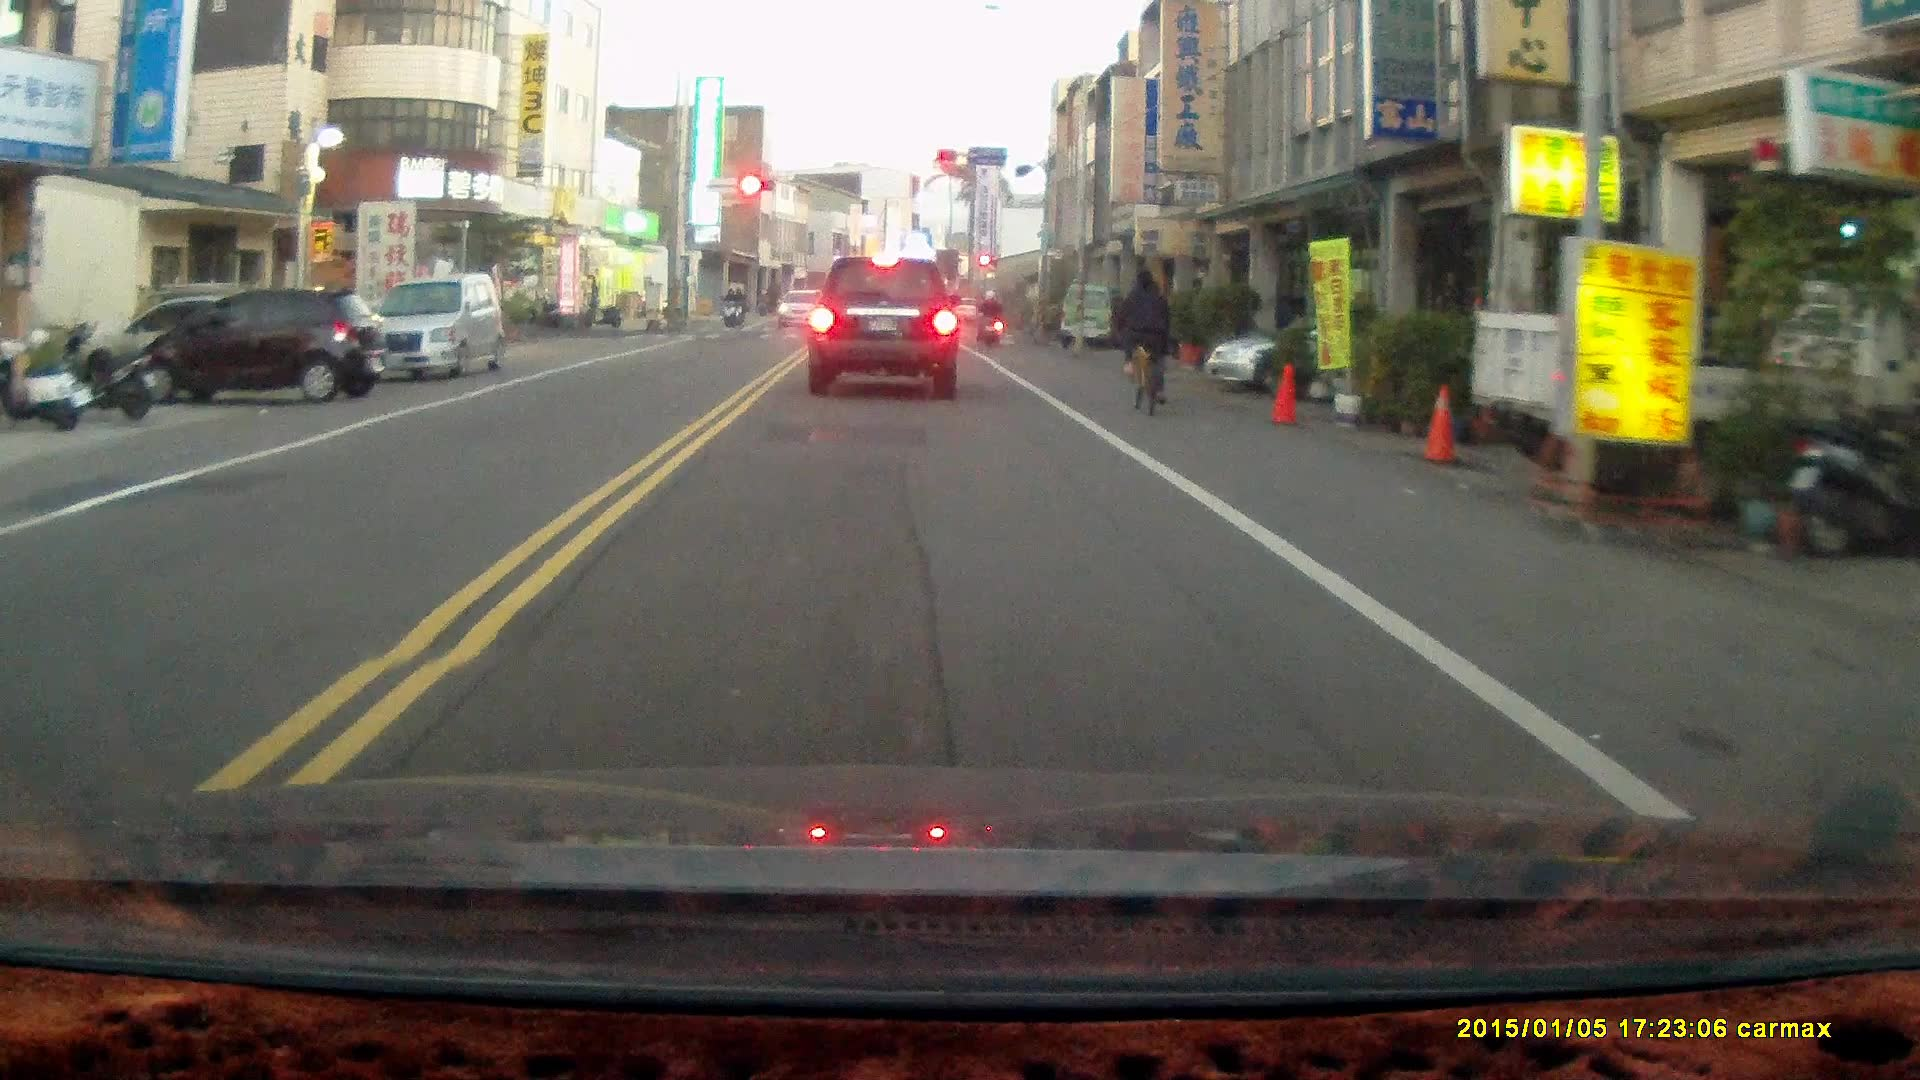rider: (1112, 267, 1172, 420), (972, 287, 1002, 349), (718, 284, 741, 329)
vehicle: (137, 281, 385, 404), (802, 255, 964, 401), (1204, 311, 1452, 396), (352, 274, 502, 381)
